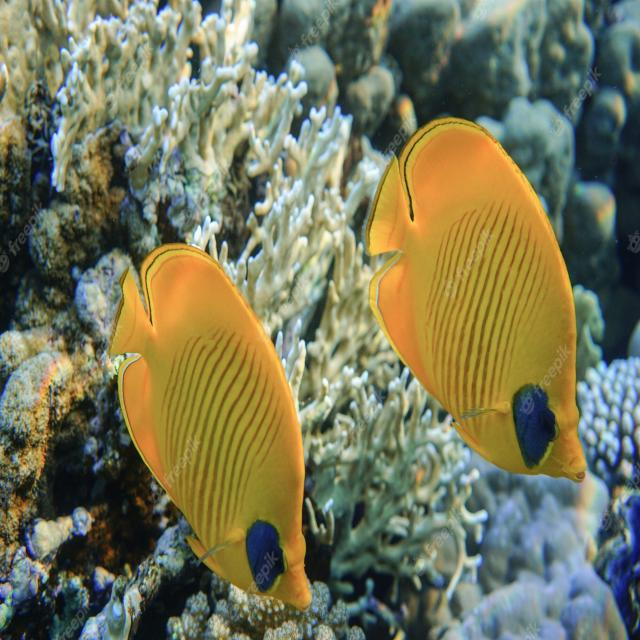ButterflyFish: (368, 119, 587, 484), (111, 247, 312, 615)
